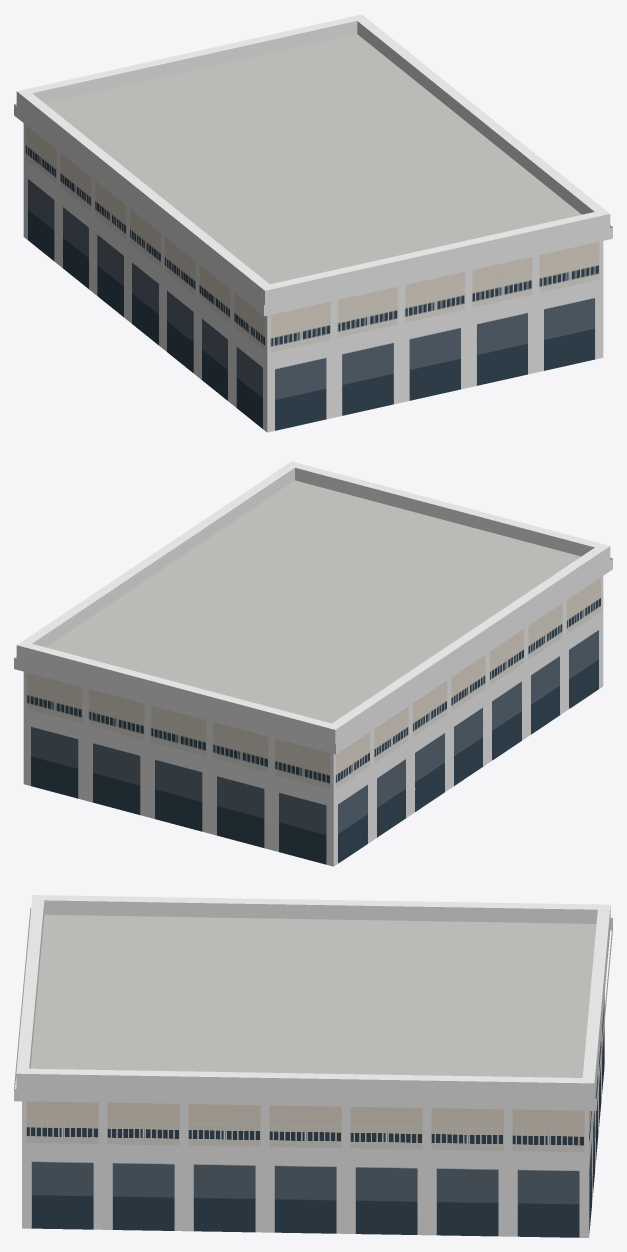
The model's file is royscastle.glb.
3 renders of one model, top to bottom at view 1: azimuth 30°, elevation 25°; view 2: azimuth 150°, elevation 25°; view 3: azimuth 270°, elevation 25°, orthographic. The views are drawn at different scales.
Visible parts, largest first — view 1: royscastle_lod0; view 2: royscastle_lod0; view 3: royscastle_lod0.
Boxes of the visible parts, box(x1,y1,x2,y2) form: royscastle_lod0: box(14, 14, 612, 432); royscastle_lod0: box(14, 461, 612, 866); royscastle_lod0: box(14, 895, 612, 1237).
Size of what is drawn, in the model's own units: 20.03 by 7.7 by 26.63.
4 materials, 2 textured.
